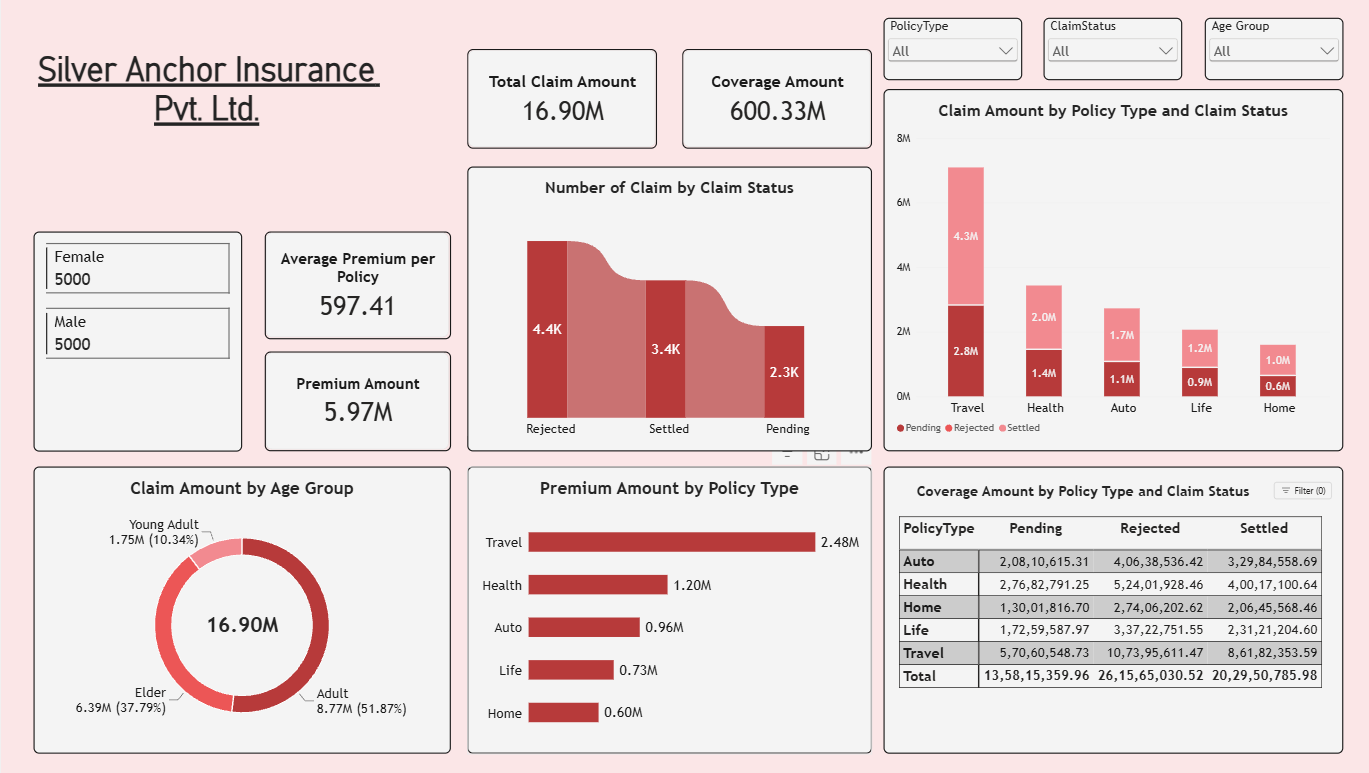

The page's visual inventory and layout, read from the dashboard file:
{"tool":"powerbi","page":{"name":"Page 1","canvas":[1920,1080],"ordinal":0},"visuals":[{"type":"cardVisual","fields":{"Data":["Sum(InsuranceData.ClaimAmount)"]},"box":[651.3,69.9,265.1,139.5],"z":0},{"type":"cardVisual","fields":{"Data":["Sum(InsuranceData.CoverageAmount)"]},"box":[951.3,69.9,265,139.5],"z":1000},{"type":"cardVisual","fields":{"Data":["Sum(InsuranceData.PremiumAmount)"]},"box":[368,491.9,259.9,139.5],"z":2000},{"type":"multiRowCard","fields":{"Values":["InsuranceData.Gender","CountNonNull(InsuranceData.Gender)"]},"box":[45.3,324.4,291.3,307],"z":3000},{"type":"donutChart","title":"Claim Amount by Age Group","fields":{"Category":["InsuranceData.Age Group"],"Y":["Sum(InsuranceData.ClaimAmount)"]},"box":[46,652.5,582.6,401.2],"z":4000},{"type":"barChart","title":"Premium Amount by Policy Type","fields":{"Category":["InsuranceData.PolicyType"],"Y":["Sum(InsuranceData.PremiumAmount)"]},"box":[651.3,652.5,565.1,401.2],"z":5000},{"type":"pivotTable","title":"Coverage Amount by Policy Type and Claim Status","fields":{"Columns":["InsuranceData.ClaimStatus"],"Rows":["InsuranceData.PolicyType"],"Values":["Sum(InsuranceData.CoverageAmount)"]},"box":[1232.1,652.5,641.9,401.2],"z":6000},{"type":"ribbonChart","title":"Number of Claim by Claim Status","fields":{"Category":["InsuranceData.ClaimStatus"],"Y":["CountNonNull(InsuranceData.ClaimStatus)"]},"box":[651.3,233.9,565.1,397.7],"z":7000},{"type":"textbox","box":[46,69.9,483.1,184.9],"z":8000},{"type":"cardVisual","fields":{"Data":["Avg(InsuranceData.PremiumAmount)"]},"box":[368,324.4,259.9,150],"z":9000},{"type":"slicer","fields":{"Values":["InsuranceData.PolicyType"]},"box":[1232.1,26.3,193.6,87.2],"z":10000},{"type":"slicer","fields":{"Values":["InsuranceData.ClaimStatus"]},"box":[1455.4,26.3,193.6,87.2],"z":11000},{"type":"slicer","fields":{"Values":["InsuranceData.Age Group"]},"box":[1680.4,26.3,193.6,87.2],"z":12000},{"type":"columnChart","title":"Claim Amount by Policy Type and Claim Status","fields":{"Category":["InsuranceData.PolicyType"],"Series":["InsuranceData.ClaimStatus"],"Y":["Sum(InsuranceData.ClaimAmount)"]},"box":[1232.1,125.8,641.9,505.8],"z":13000}]}

Visuals, with their boxes in screenshot pixels (x1, y1, x2, y2), scaled from the page's 1920x1080 canvas onto the 1369x773 screenshot:
cardVisual - Sum(InsuranceData.ClaimAmount): locate(464, 50, 653, 150)
cardVisual - Sum(InsuranceData.CoverageAmount): locate(678, 50, 867, 150)
cardVisual - Sum(InsuranceData.PremiumAmount): locate(262, 352, 448, 452)
multiRowCard - InsuranceData.Gender x CountNonNull(InsuranceData.Gender): locate(32, 232, 240, 452)
"Claim Amount by Age Group" donutChart: locate(33, 467, 448, 754)
"Premium Amount by Policy Type" barChart: locate(464, 467, 867, 754)
"Coverage Amount by Policy Type and Claim Status" pivotTable: locate(879, 467, 1336, 754)
"Number of Claim by Claim Status" ribbonChart: locate(464, 167, 867, 452)
textbox: locate(33, 50, 377, 182)
cardVisual - Avg(InsuranceData.PremiumAmount): locate(262, 232, 448, 340)
slicer - InsuranceData.PolicyType: locate(879, 19, 1017, 81)
slicer - InsuranceData.ClaimStatus: locate(1038, 19, 1176, 81)
slicer - InsuranceData.Age Group: locate(1198, 19, 1336, 81)
"Claim Amount by Policy Type and Claim Status" columnChart: locate(879, 90, 1336, 452)
